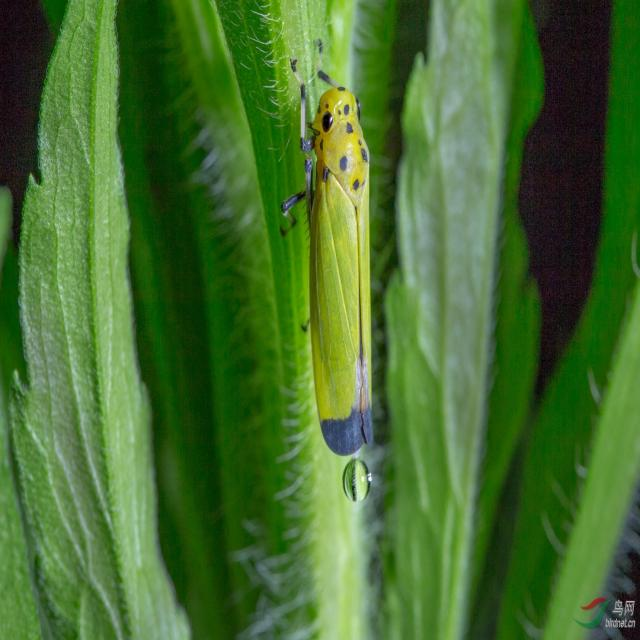Yechan: (282, 64, 377, 460)
